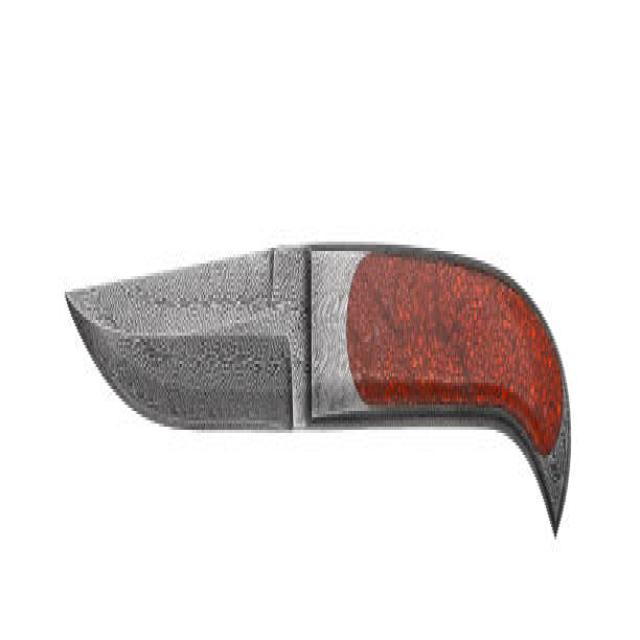knife: (61, 234, 573, 547)
